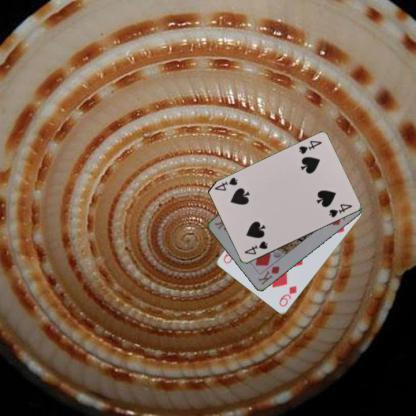4s: (296, 138, 323, 156), (242, 239, 269, 256)
9d: (276, 283, 298, 308)
Kd: (256, 262, 280, 286)
